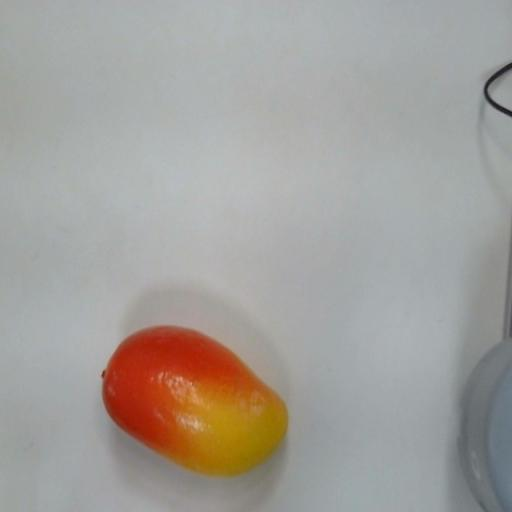Ripe: (97, 307, 309, 478)
